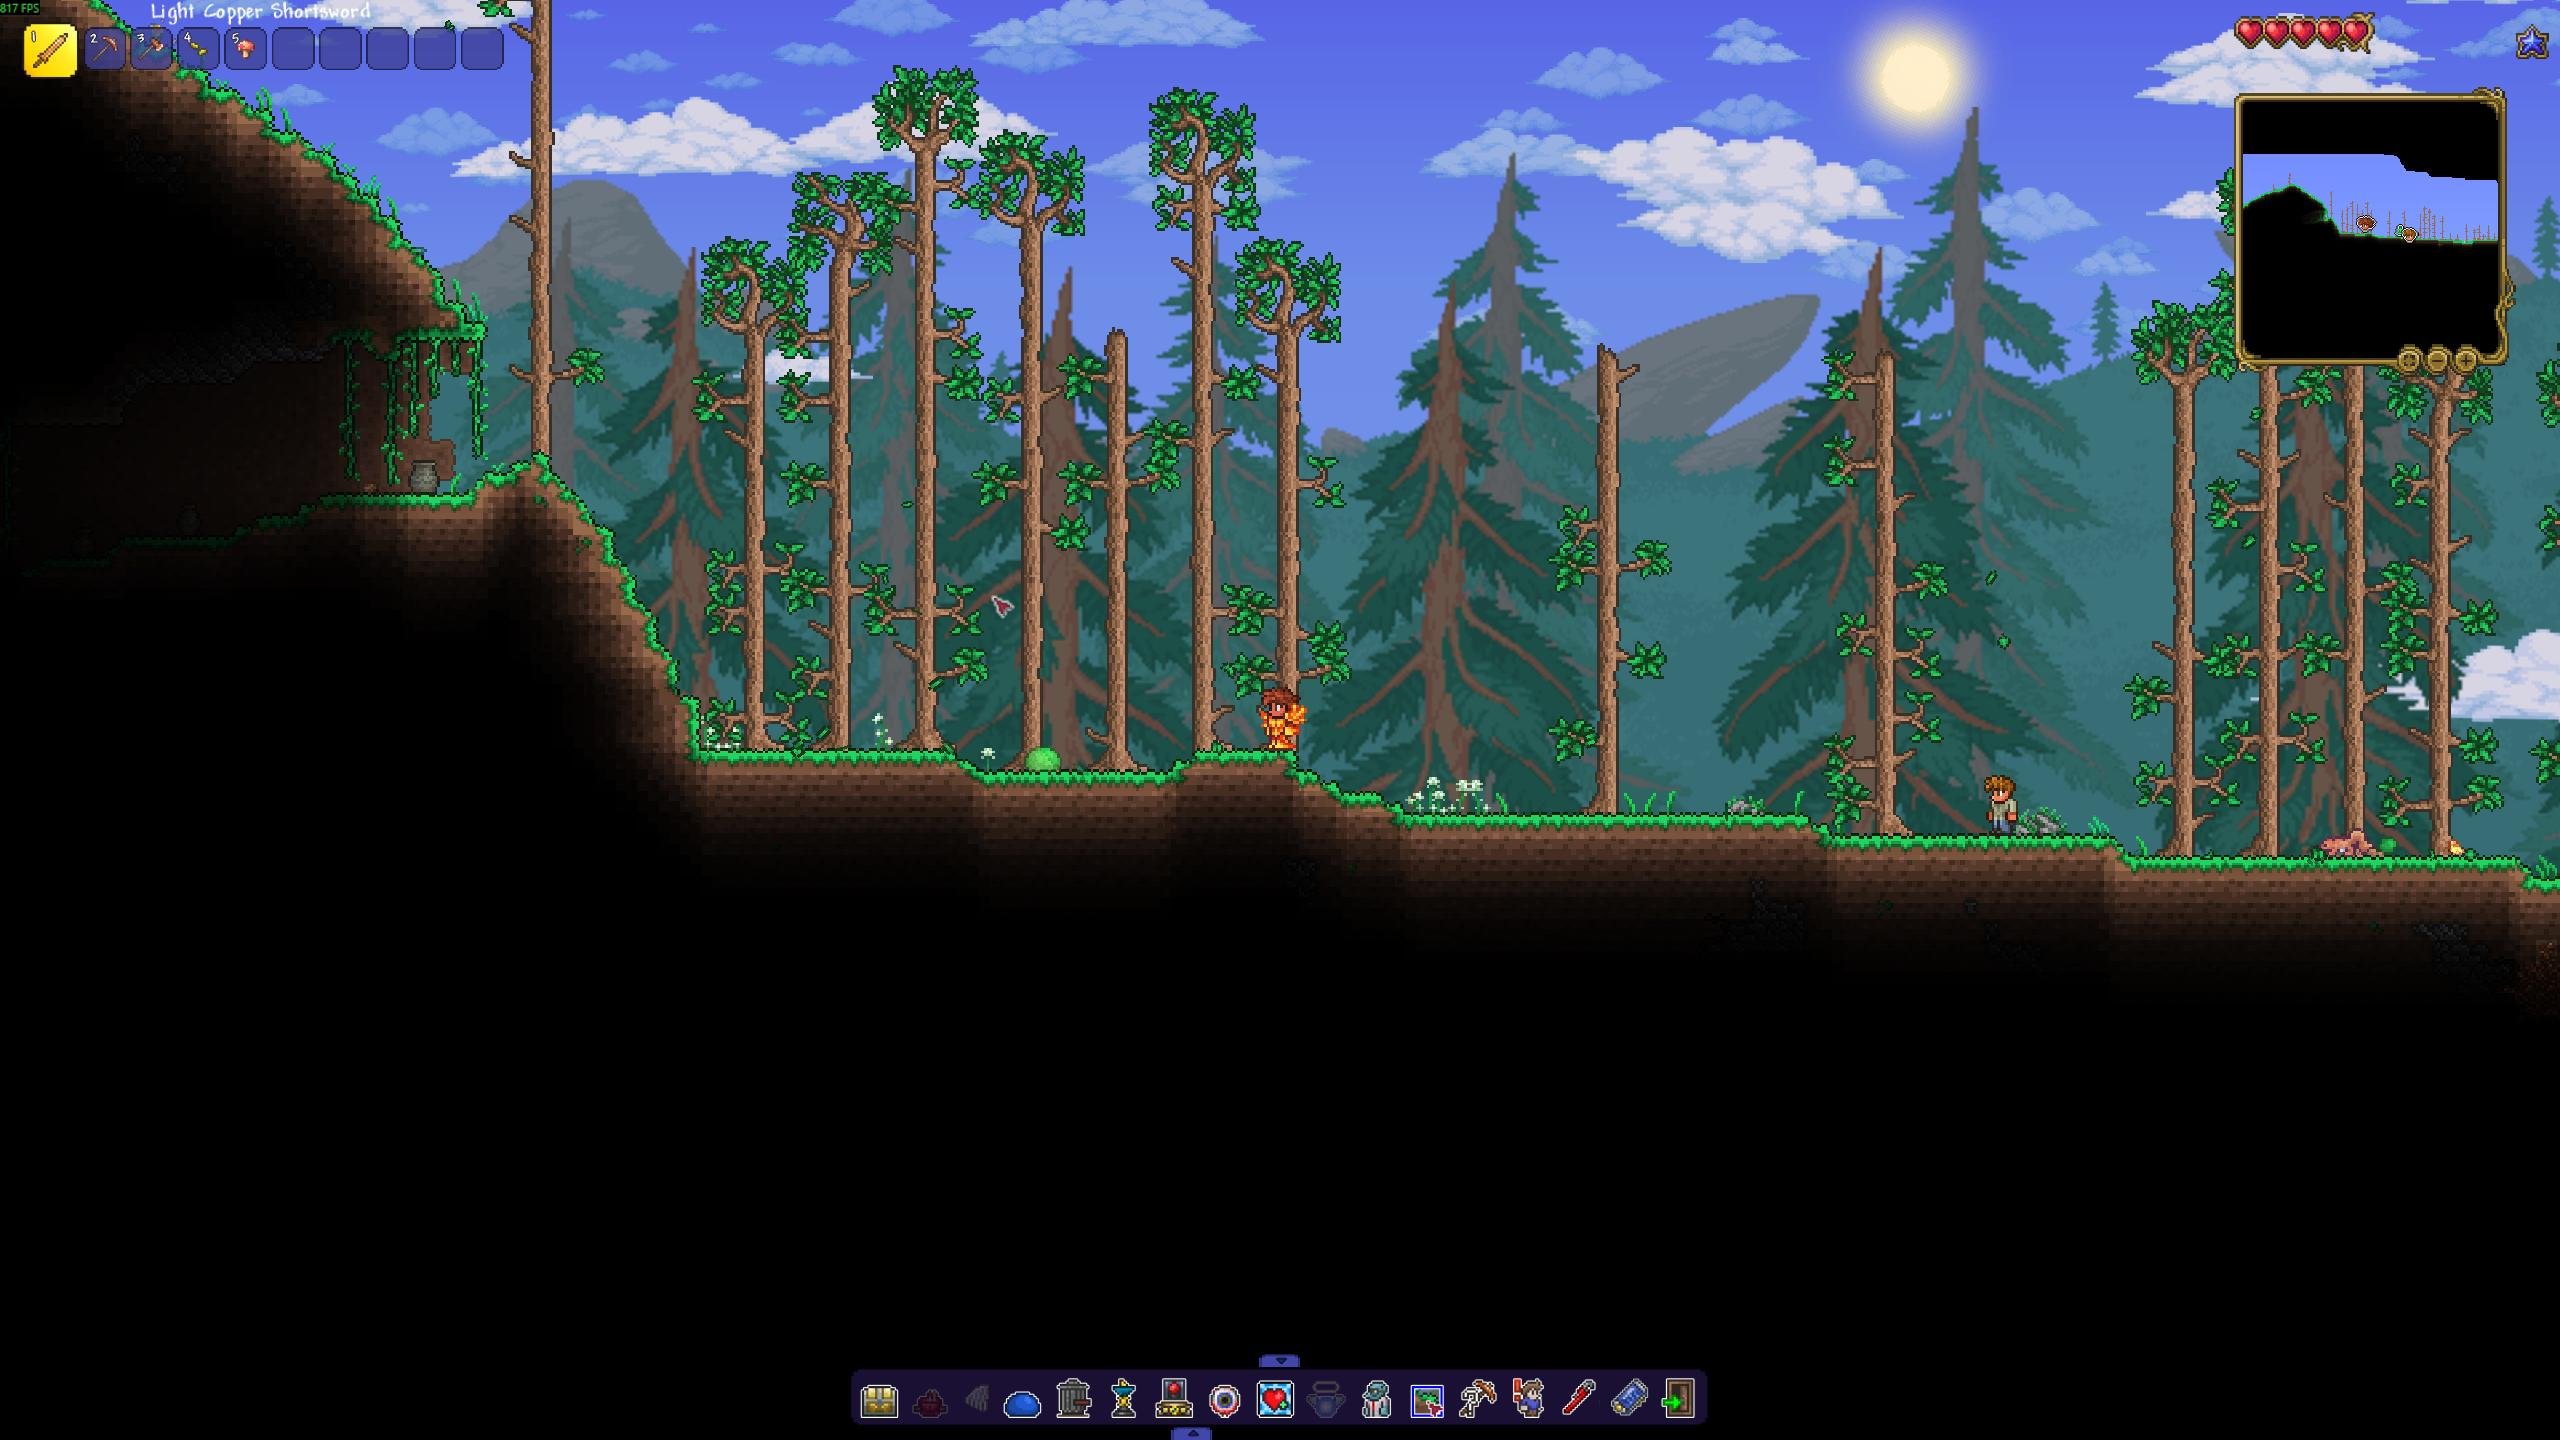Green Slime: (1023, 742, 1062, 772)
